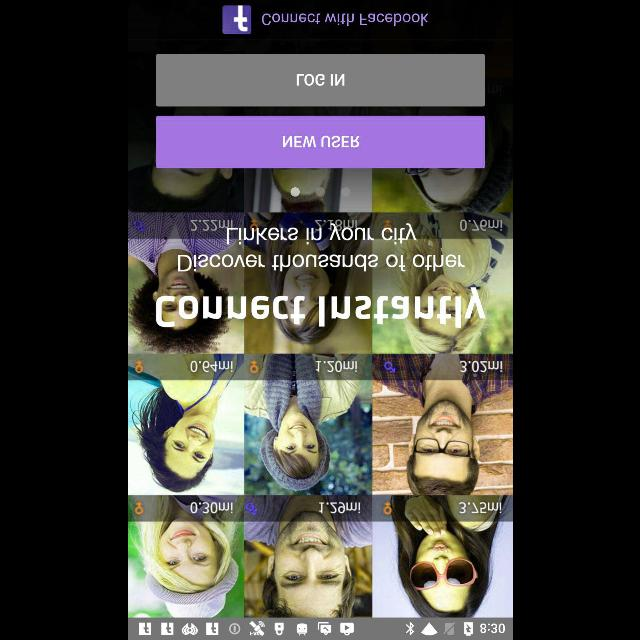backgroundimage: (128, 0, 512, 618)
icon: (222, 6, 250, 34)
pageindicator: (290, 187, 350, 197)
text: (155, 288, 485, 328), (178, 254, 464, 272), (226, 223, 416, 245), (261, 14, 427, 26)
textbutton: (156, 116, 484, 168), (156, 54, 484, 106)
uppertaskbar: (128, 617, 512, 639)
